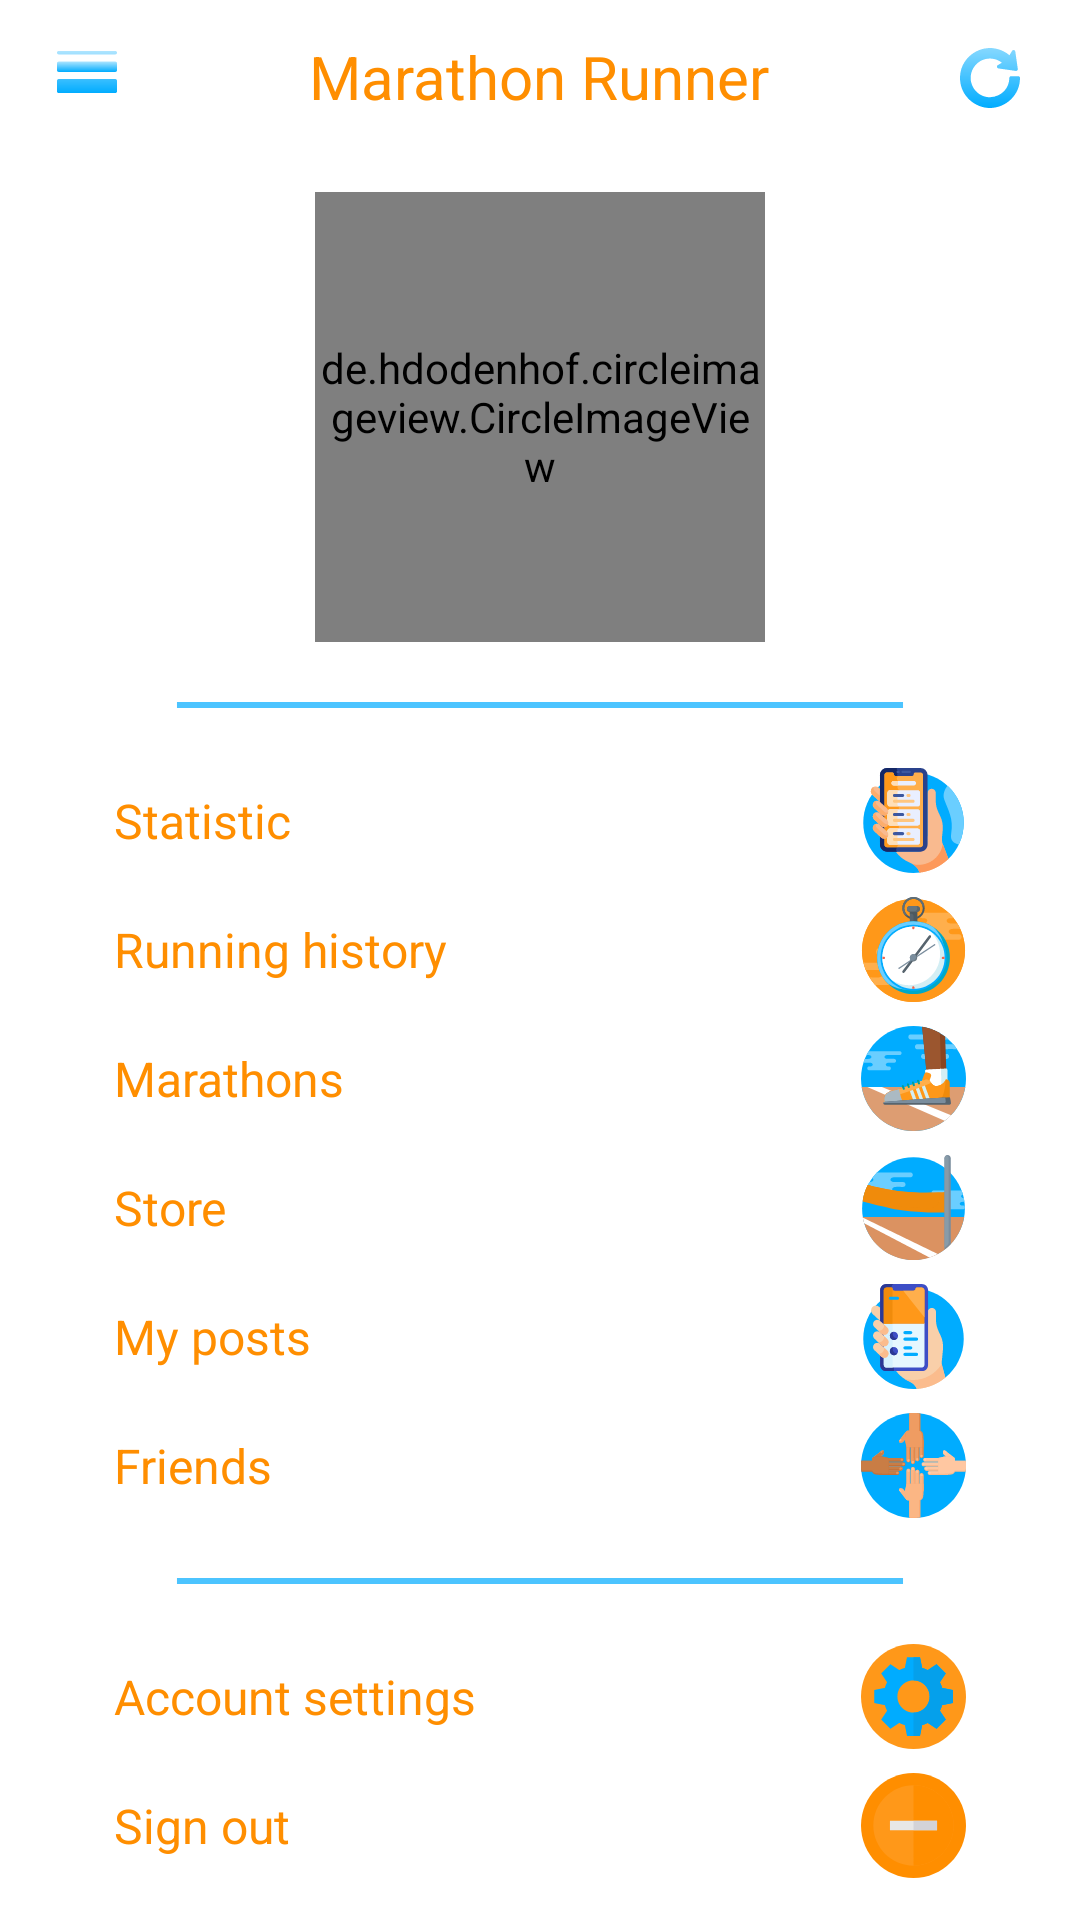

Named icons in this screenshot (1080 x 1920) and their bounding boxes, (x1, y1, x2, y2):
menu: (57, 51, 117, 93)
refresh: (960, 48, 1020, 108)
status: (863, 768, 964, 873)
